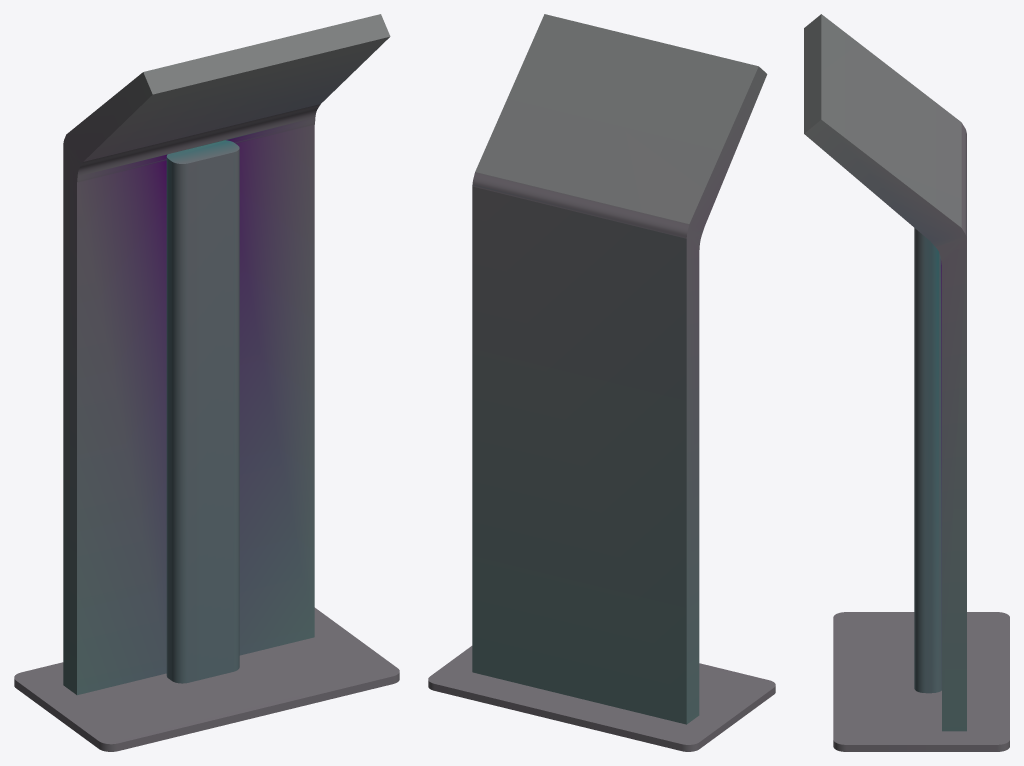
File: simready-digitalSystem_touchTerminal_standing_a01.glb
3 renders of one model, left to right at view 1: azimuth 30°, elevation 25°; view 2: azimuth 150°, elevation 25°; view 3: azimuth 270°, elevation 25°, orthographic. The views are drawn at different scales.
Parts seen in each view (by area): view 1: bent_panel, plinth; view 2: bent_panel, plinth; view 3: bent_panel, plinth.
Boxes of the visible parts, box(x1,y1,x2,y2) form: bent_panel: box(63, 14, 390, 695); plinth: box(14, 607, 399, 751); bent_panel: box(472, 14, 767, 724); plinth: box(428, 646, 775, 751); bent_panel: box(804, 14, 966, 731); plinth: box(833, 612, 1009, 751).
Size of the model in its own units: 0.5608 by 1.22 by 0.3675.
